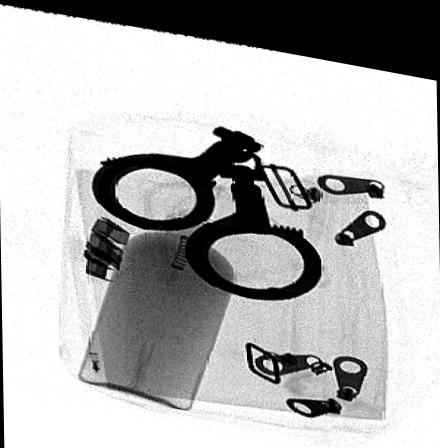HandCuffs: (91, 116, 322, 291)
